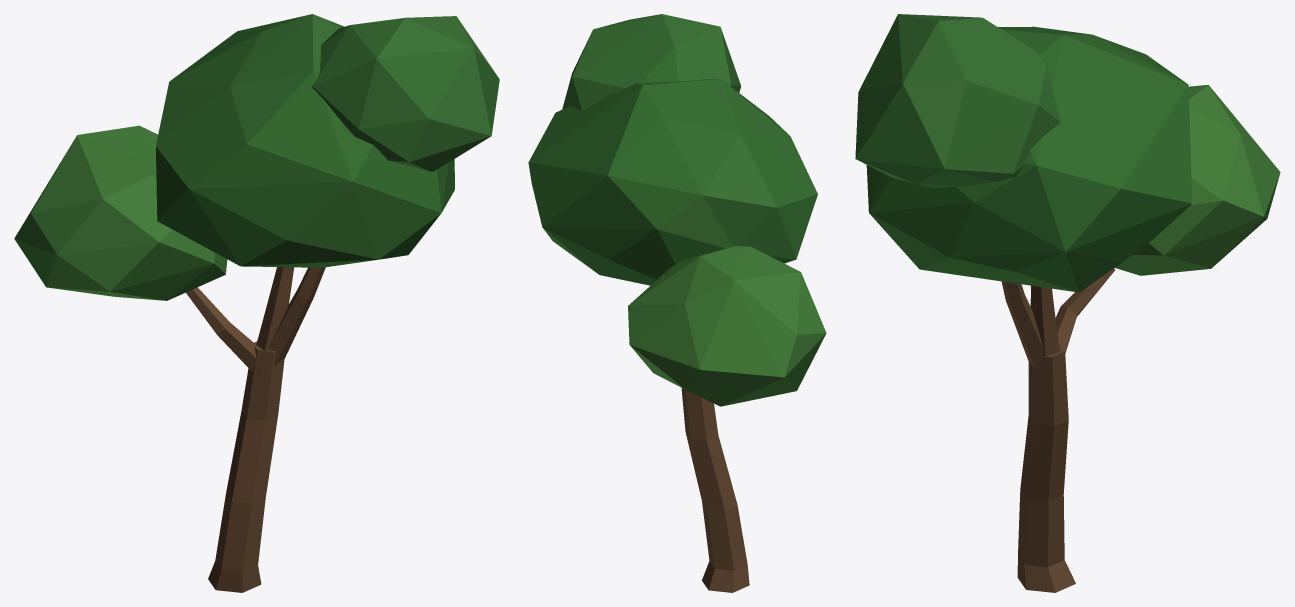
The model's file is arbol_platano_b.glb.
The picture shows the model from 3 angles, left to right: view 1: azimuth 30°, elevation 25°; view 2: azimuth 150°, elevation 25°; view 3: azimuth 270°, elevation 25°; orthographic projection. The views are drawn at different scales.
Visible parts, largest first — view 1: arbol_platano_b_copa, arbol_platano_b_tronco; view 2: arbol_platano_b_copa, arbol_platano_b_tronco; view 3: arbol_platano_b_copa, arbol_platano_b_tronco.
Part boxes in pixels (x1,y1,x2,y2): arbol_platano_b_copa: (14, 14, 499, 300); arbol_platano_b_tronco: (186, 267, 325, 592); arbol_platano_b_copa: (528, 14, 826, 406); arbol_platano_b_tronco: (681, 388, 749, 592); arbol_platano_b_copa: (855, 14, 1280, 292); arbol_platano_b_tronco: (1001, 268, 1115, 592).
Size of what is drawn, in the model's own units: 4 by 6 by 3.7.
